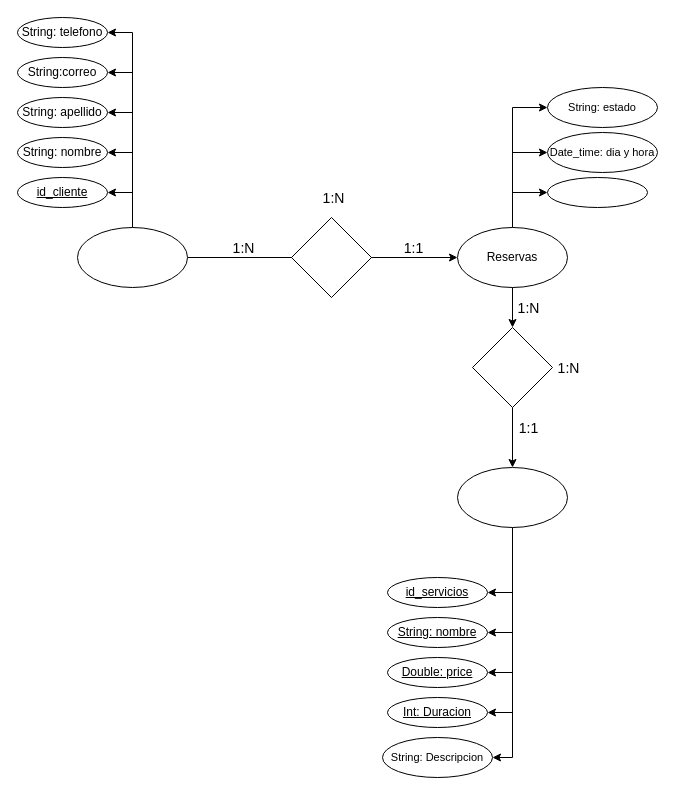
Some shapes in this 675 by 795 pixel diagram are drawn without their labels. Each missing label, with the centre of its shape:
"Clientes" goes at (132,257).
"id_reserva" goes at (597,192).
"ofrecen" goes at (512,367).
"realiza" goes at (331,257).
"Servicios" goes at (512,497).
